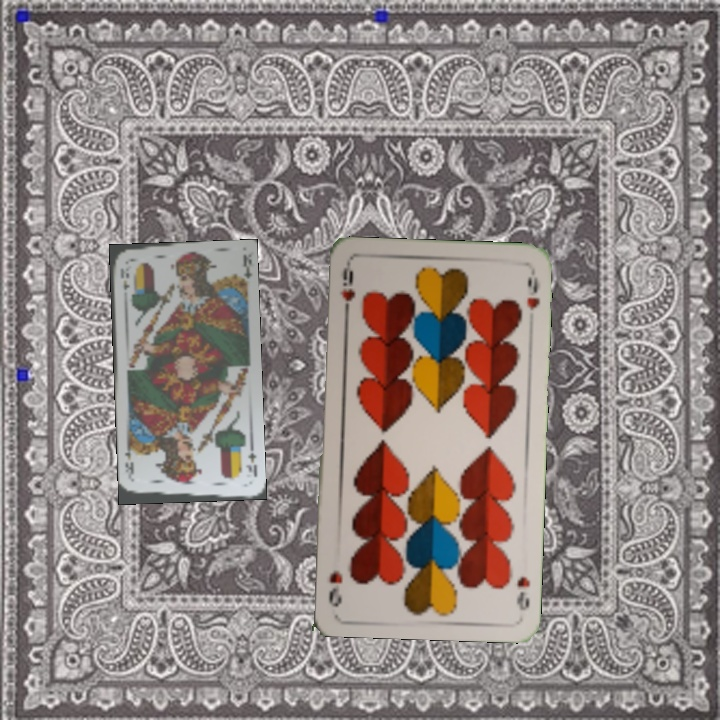EK: (242, 443, 260, 479), (116, 265, 132, 293)
H9: (335, 261, 358, 321), (512, 573, 533, 613)
